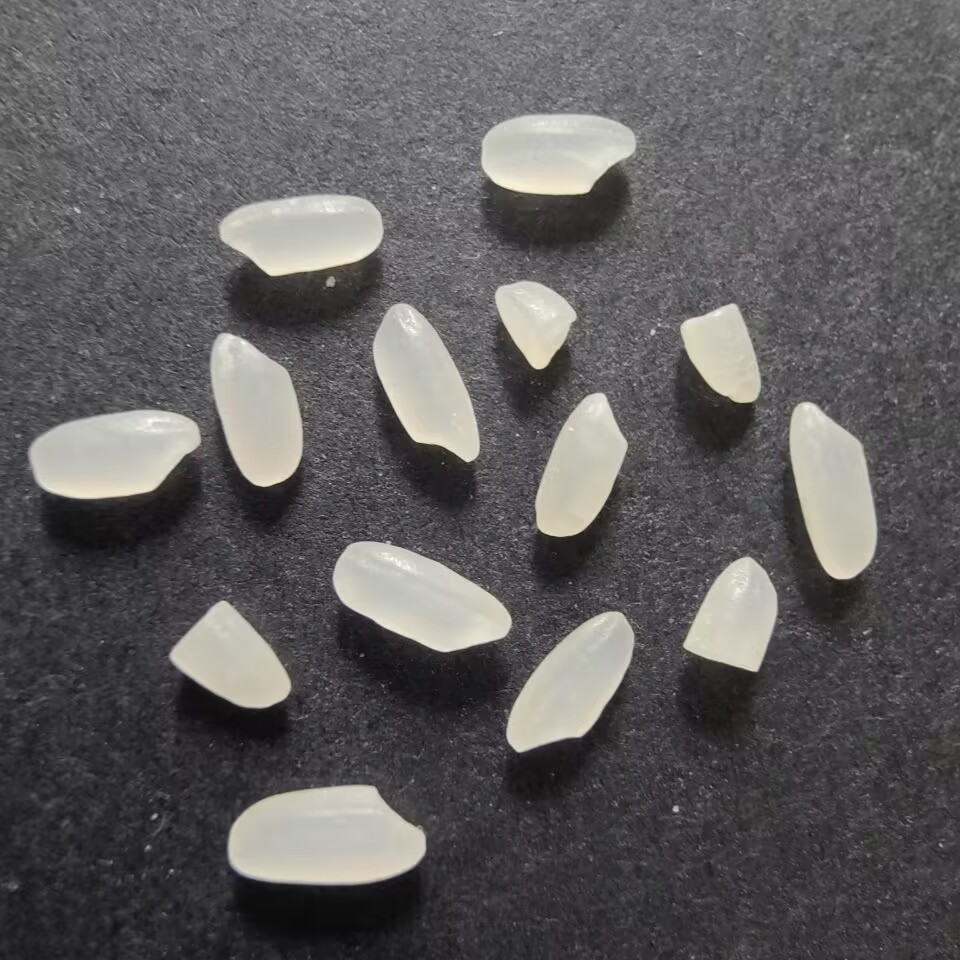broken: (168, 597, 294, 717), (681, 553, 779, 675), (672, 299, 769, 414), (490, 277, 584, 377)
rice: (216, 776, 433, 890), (326, 536, 514, 652), (498, 608, 637, 756), (371, 299, 488, 469), (785, 395, 888, 584), (20, 406, 207, 506), (207, 327, 309, 495), (213, 188, 389, 280), (477, 105, 644, 200), (530, 386, 632, 539)
